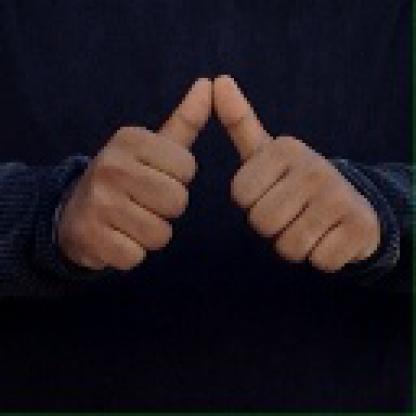A: (53, 74, 372, 276)
